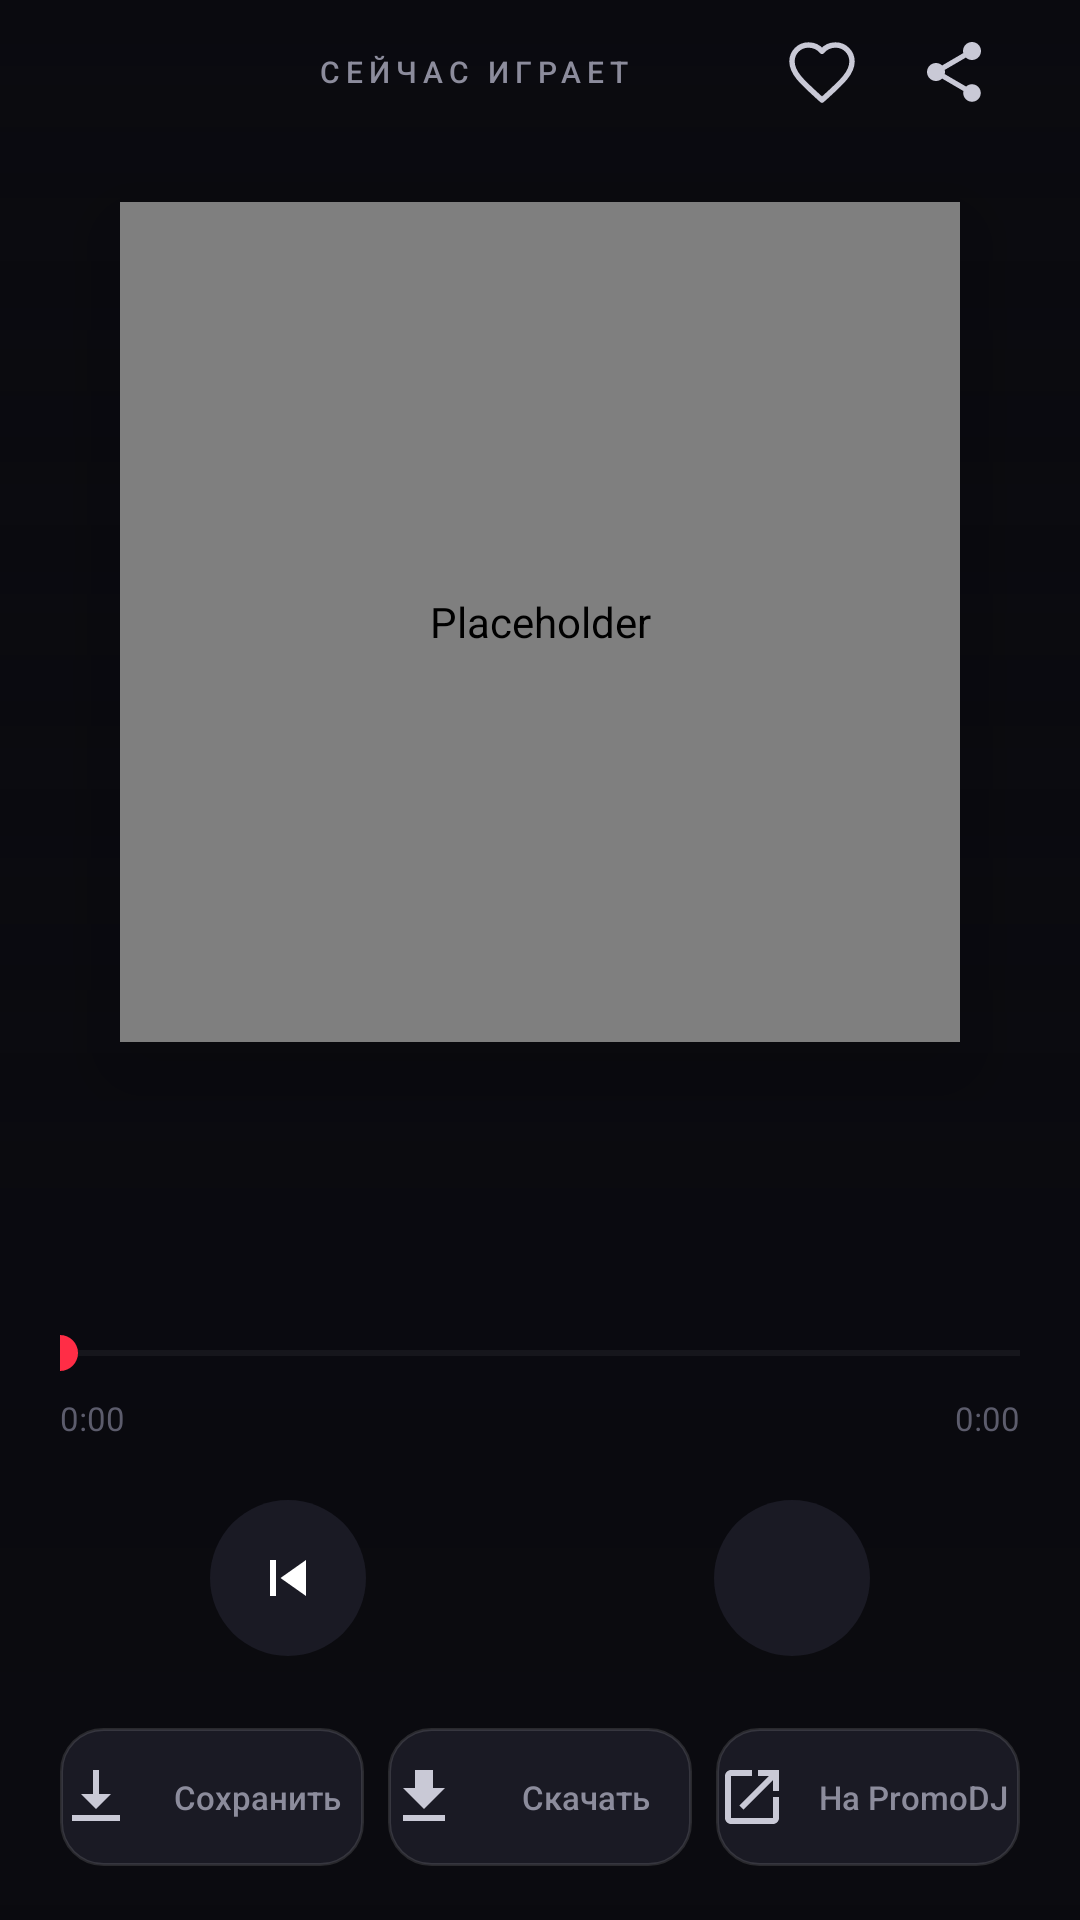

Named icons in this screenshot (1080*1920) and their centers, (x,y):
В избранное: (822,72)
Поделиться: (954,72)
Предыдущий: (288,1578)
